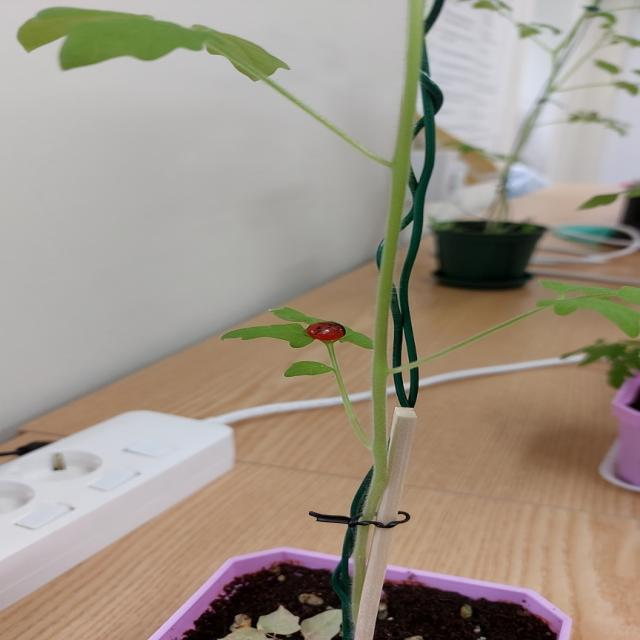bug: (277, 315, 376, 345)
